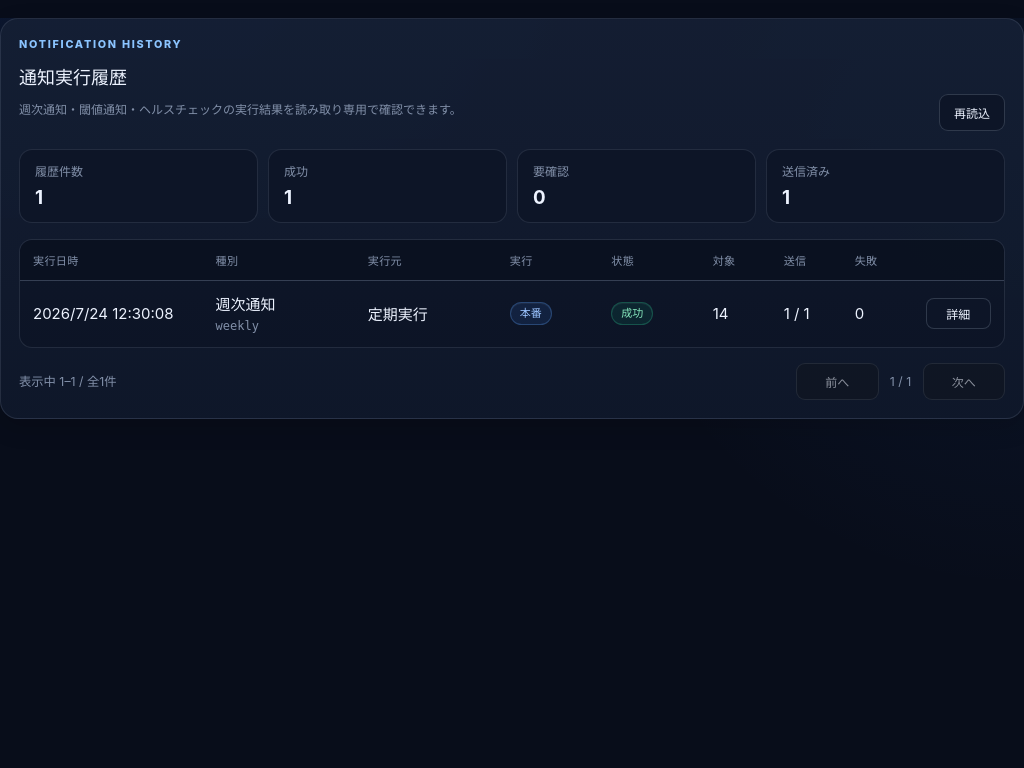
NotificationHistory › 重複スキップから重複元の詳細を開く
Click the button "詳細": (958, 314) [926, 298, 991, 329]
(page scrolled)
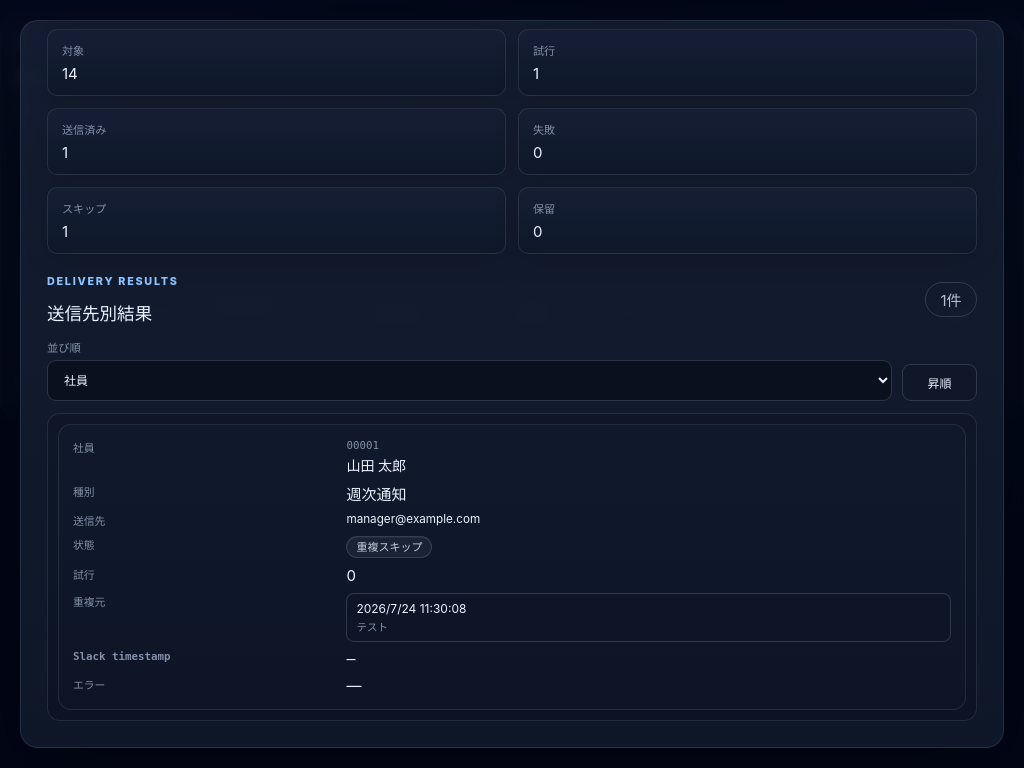
Click the button "2026/7/24 11:30:08 テスト": (411, 609) [346, 594, 951, 642]
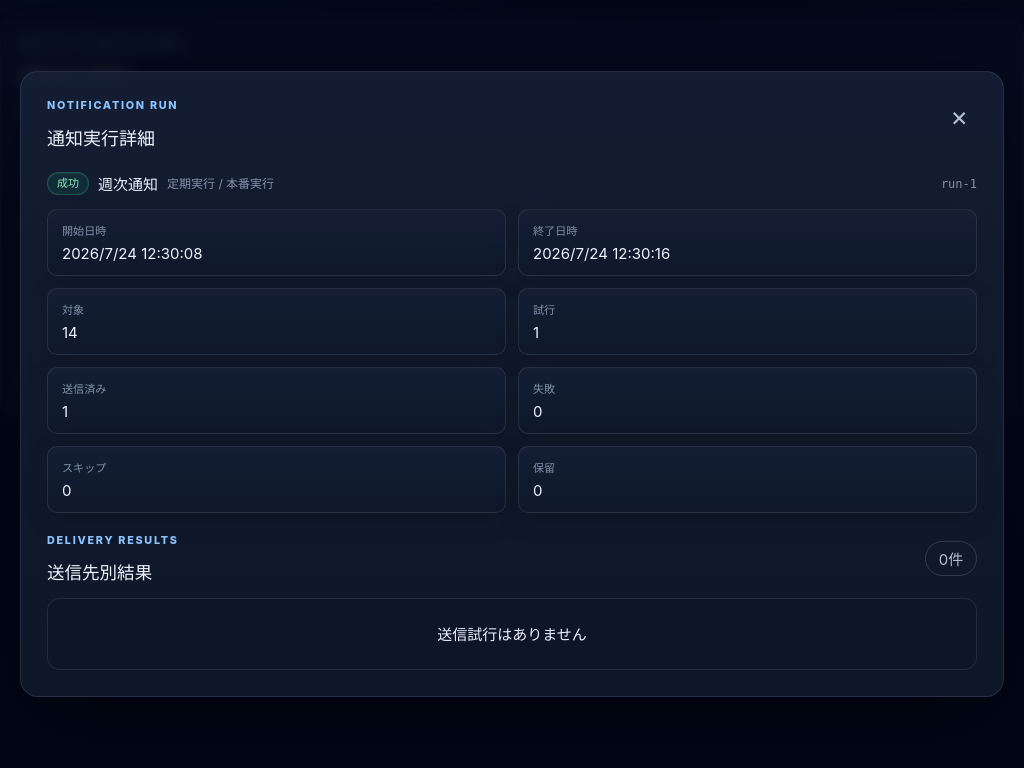
Now the text "run-1" is shown, box [941, 174, 977, 192]
